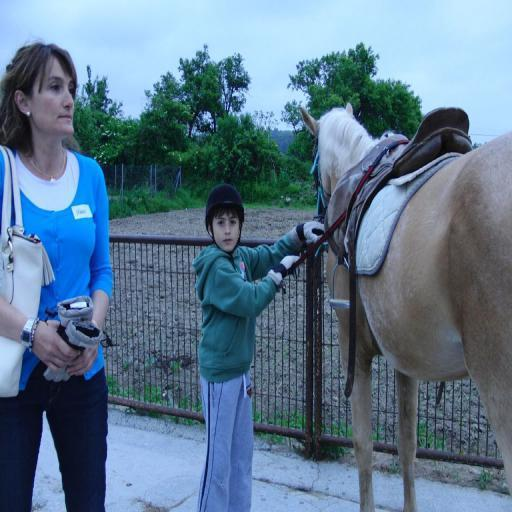horse: (296, 106, 512, 512)
